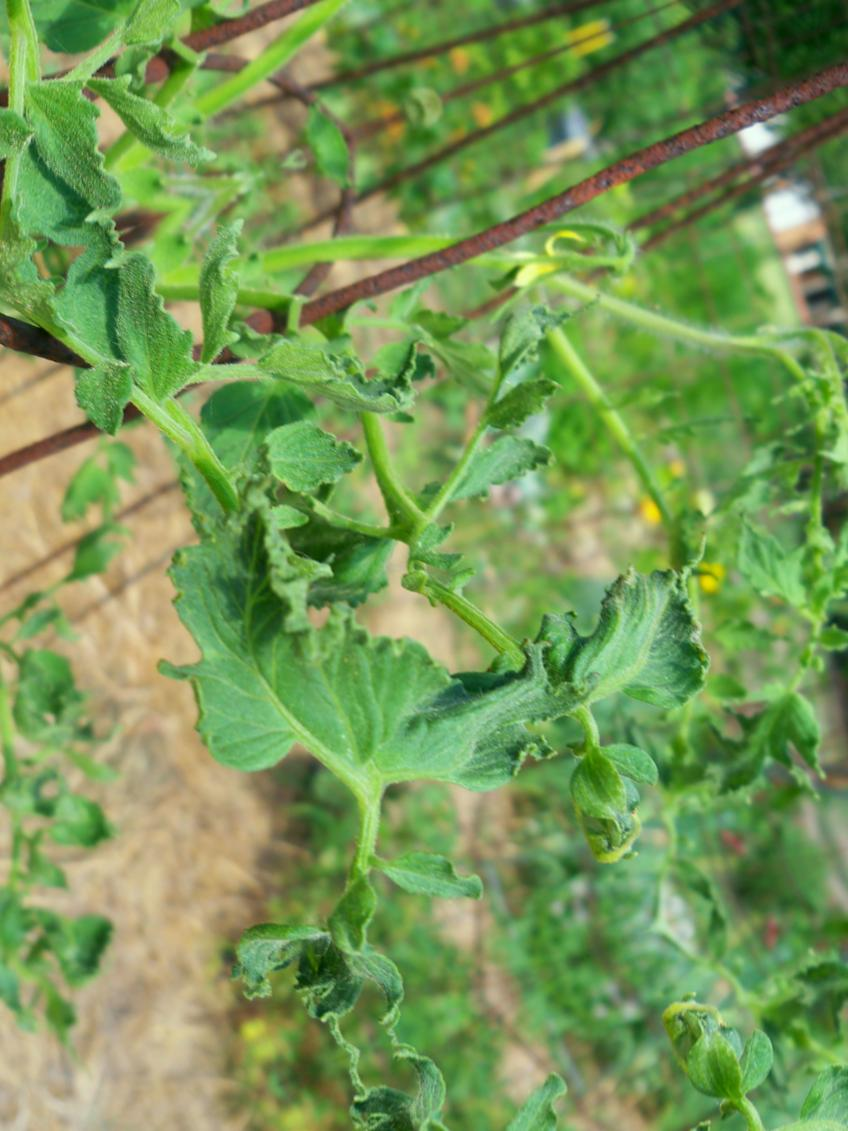Tomato leaf mosaic virus: (324, 531, 767, 837), (133, 471, 483, 851), (194, 858, 453, 1093), (17, 233, 218, 445), (429, 417, 572, 516), (253, 394, 373, 510)
